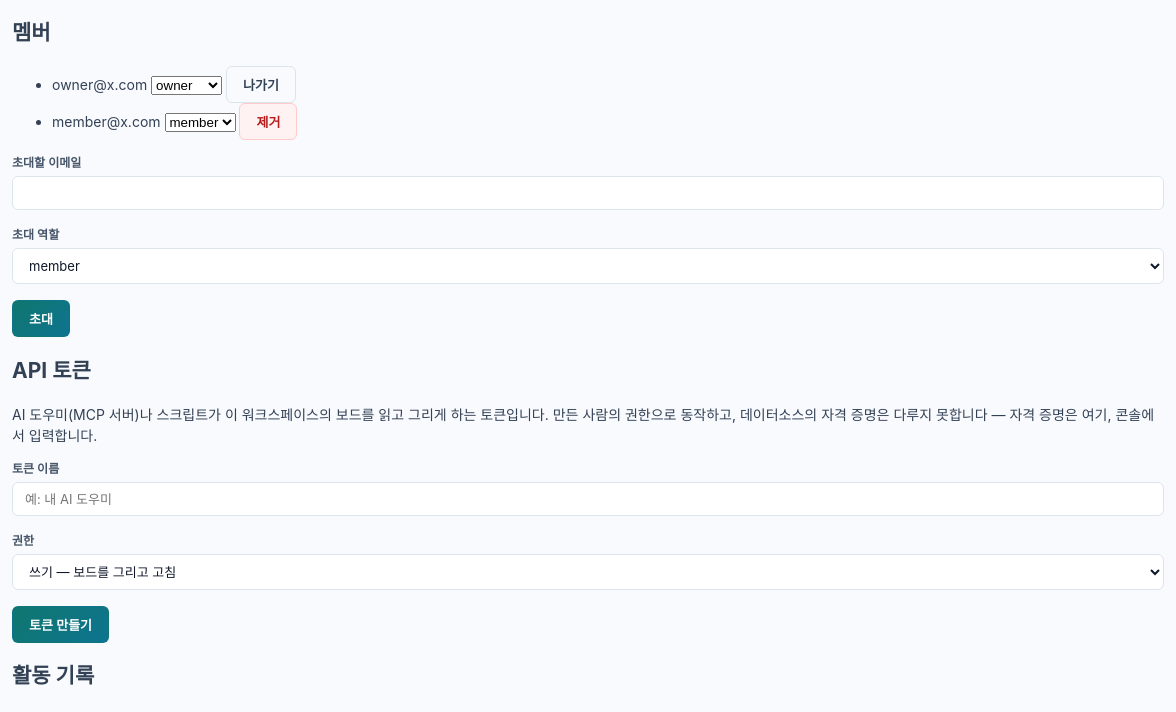
Test: SettingsPage › explains the last-owner rule when demoting the only owner is refused
Select "member" in the dropdown named "owner@x.com 역할": (187, 86) [151, 76, 222, 95]
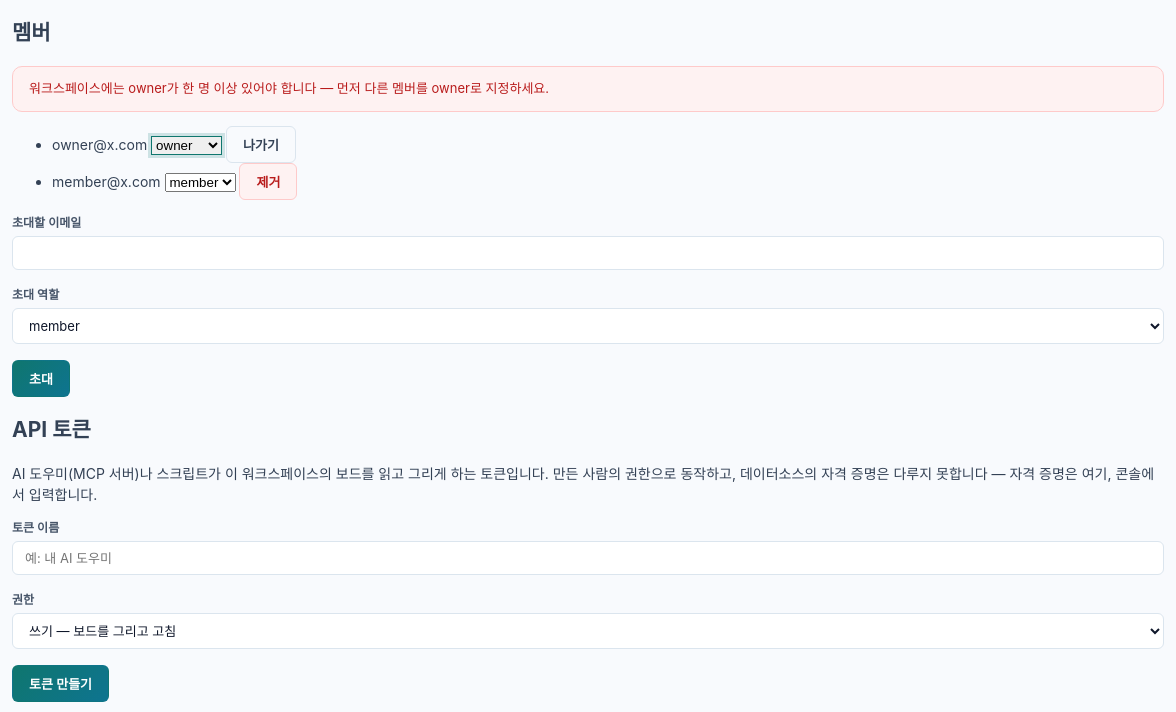
Now the message shows "owner가 한 명 이상", box [29, 80, 549, 96]
